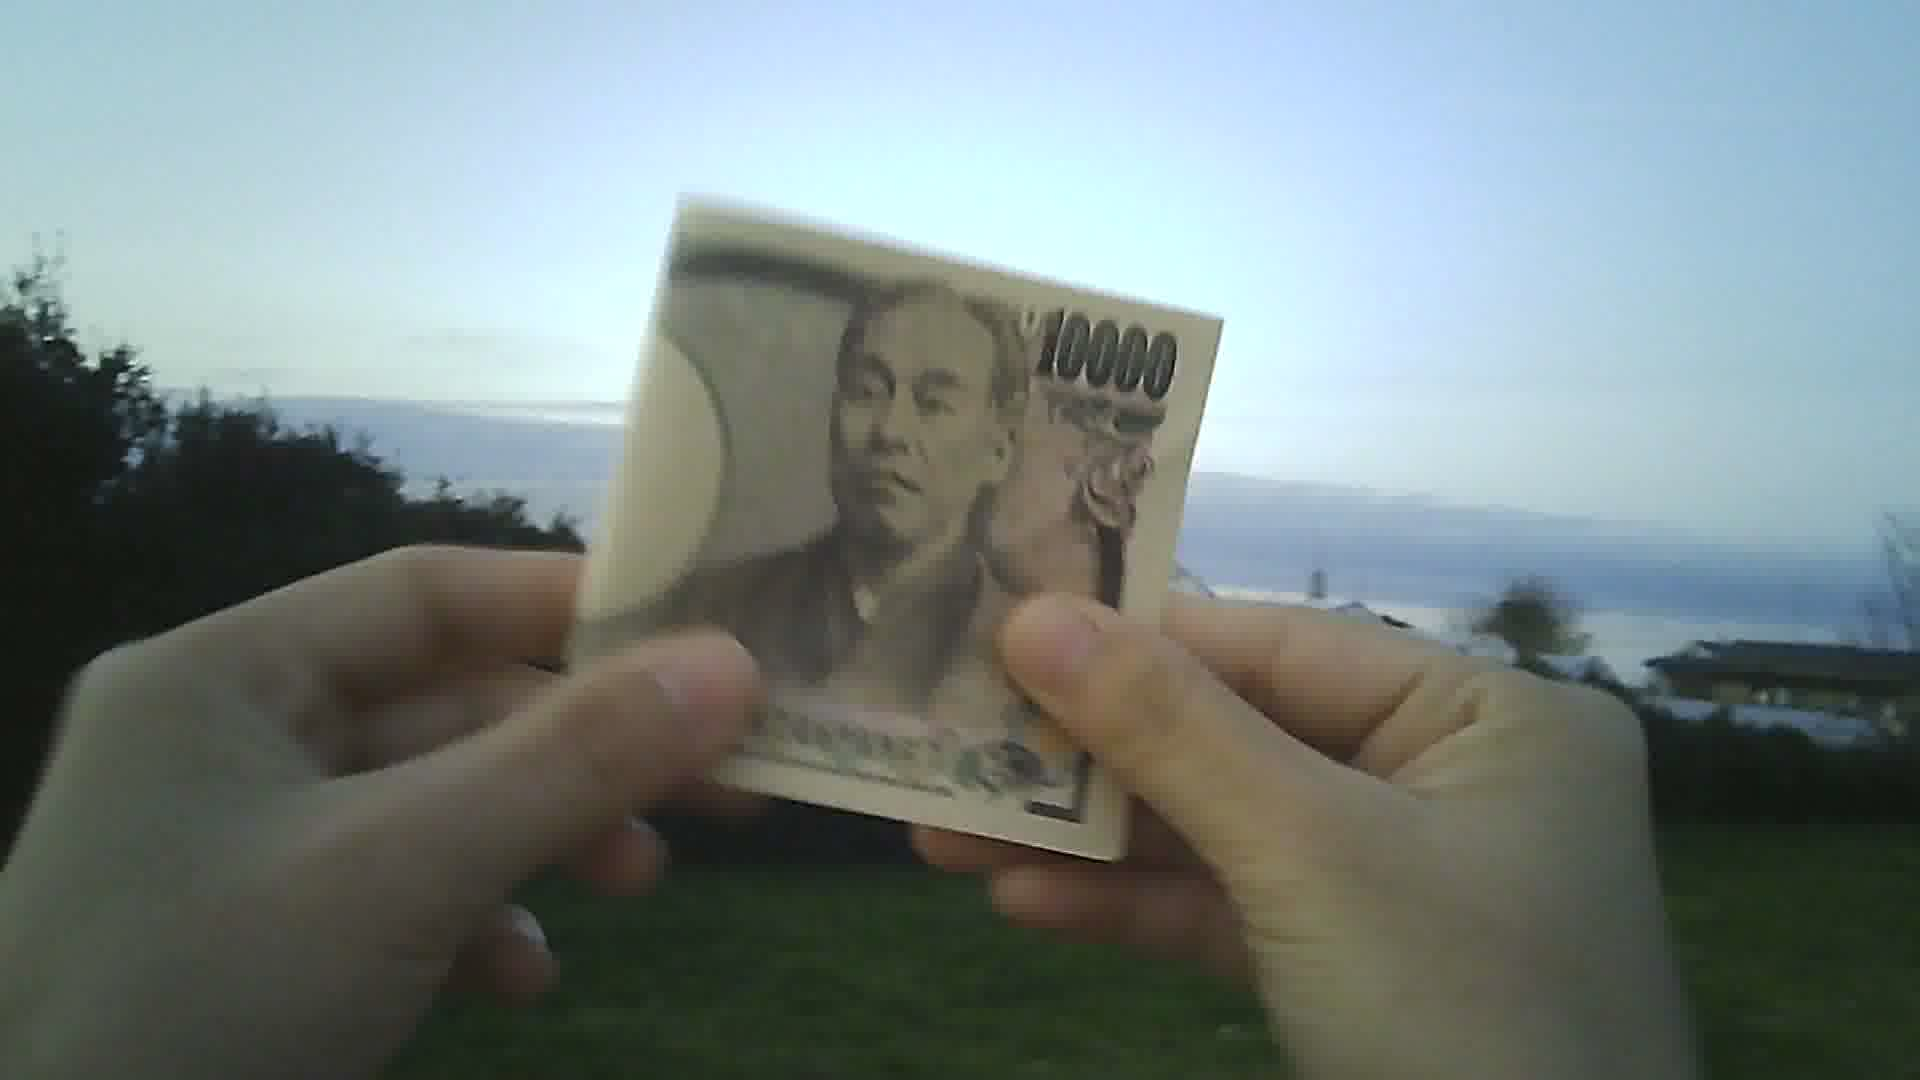10,000 Yen: (556, 185, 1229, 895)
